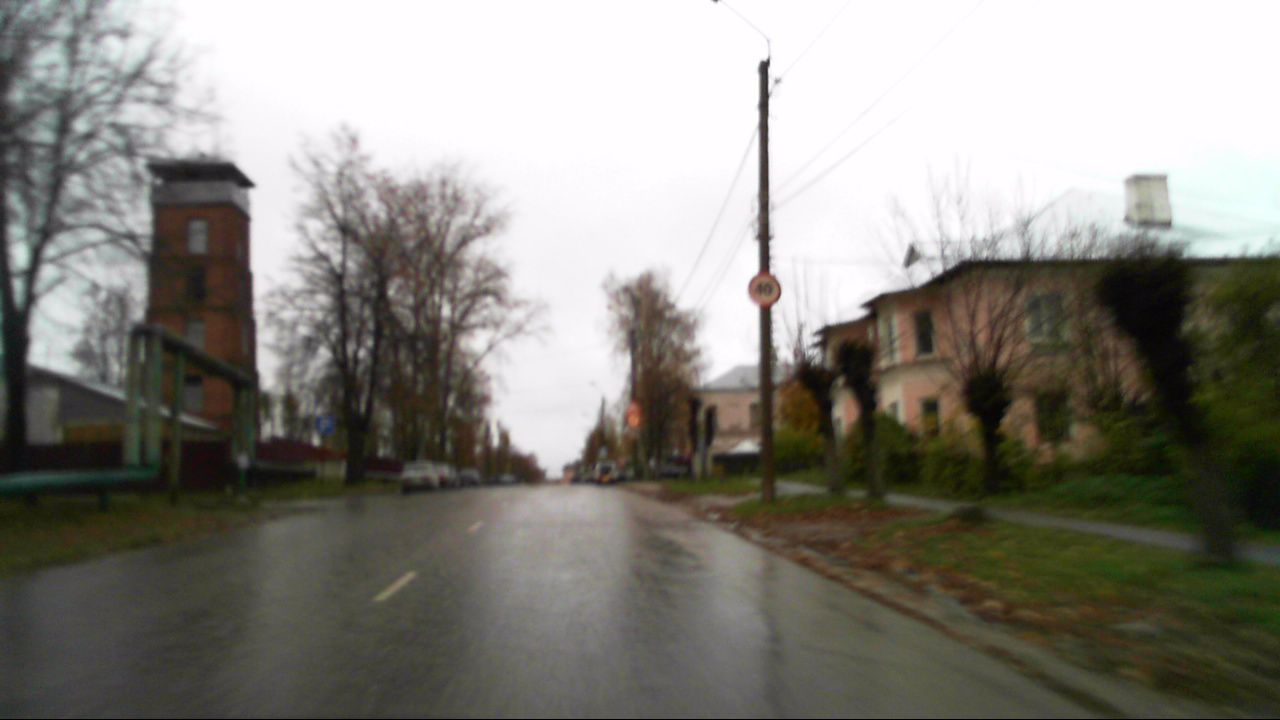speed_warning_40: (747, 272, 781, 308)
